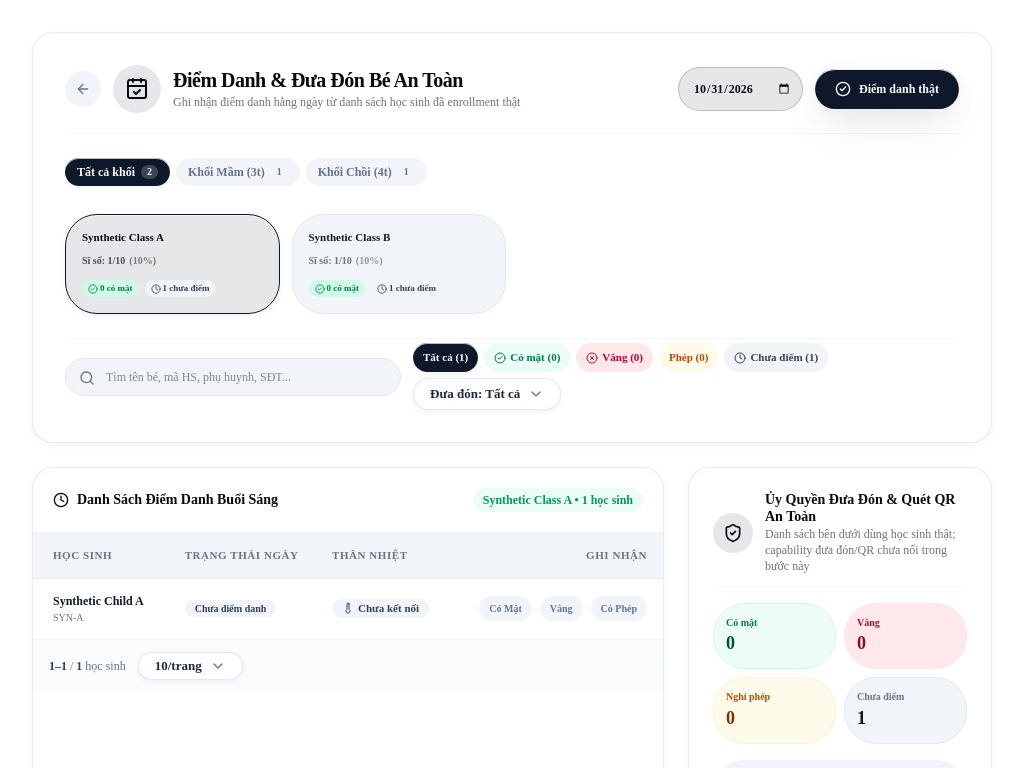
blocks grade-based course changes during a pending write and recovers the original context
Click the button "Có Mặt". click: {"x": 506, "y": 609}
box: [479,596,532,621]
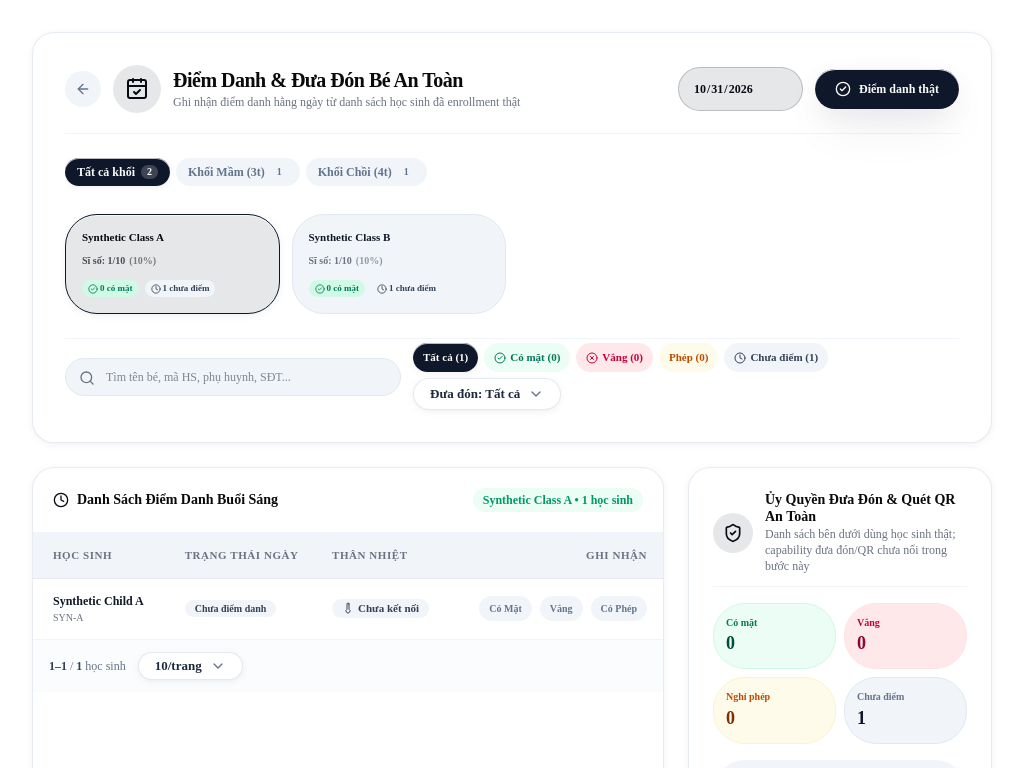
Click the button "Khối Chồi (4t) 1". click: {"x": 366, "y": 172}
box: [306,158,427,186]
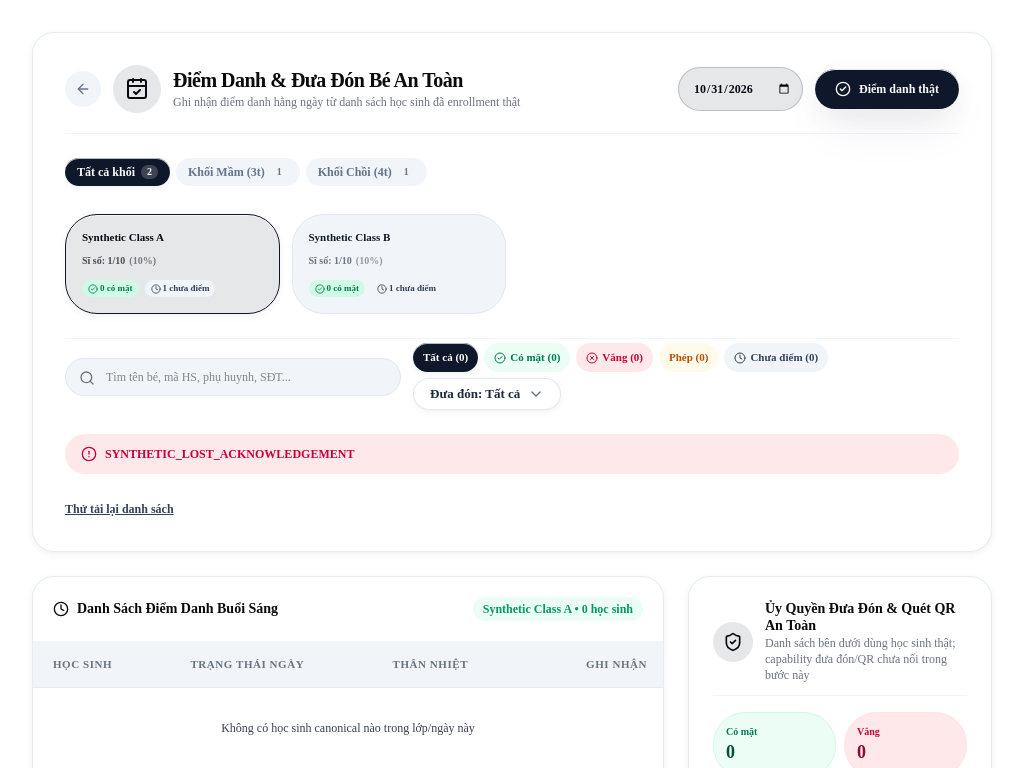
Expected: the message reads "SYNTHETIC_LOST_ACKNOWLEDGEMENT", [105,447,354,461]
Click the button "Thử tải lại danh sách". click: {"x": 119, "y": 509}
box: [65,501,174,517]
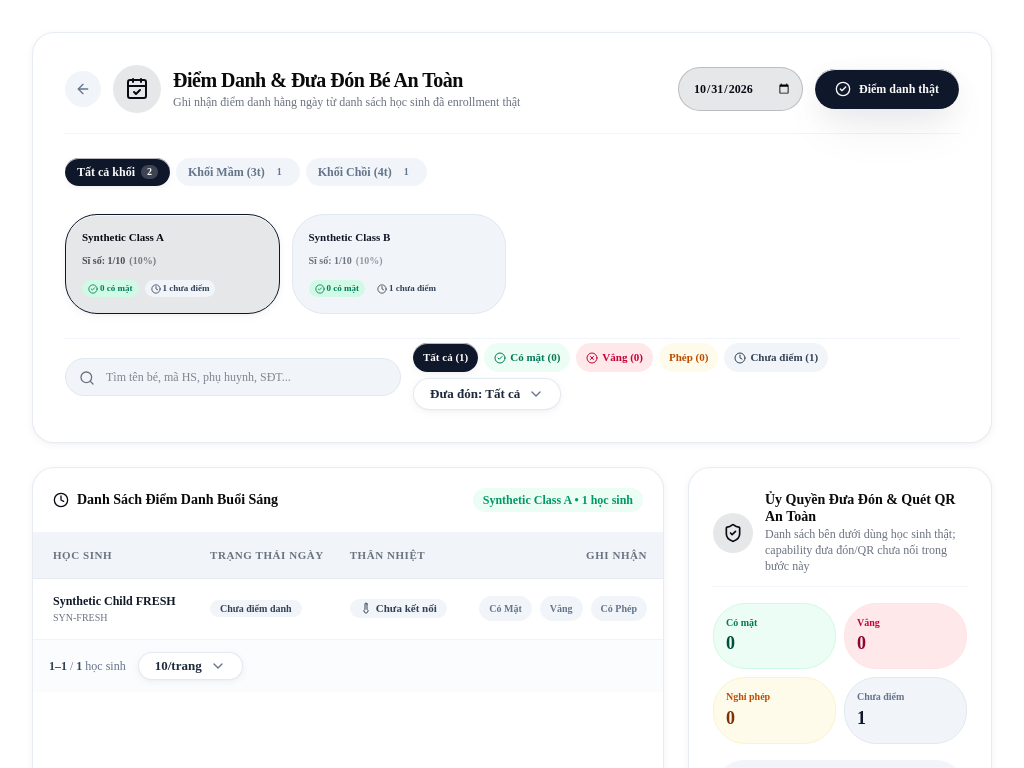
Expected: the button "Khối Chồi (4t) 1" is enabled, [306,158,427,186]
Expected: the text "Synthetic Child FRESH" is shown, [53,593,178,609]
